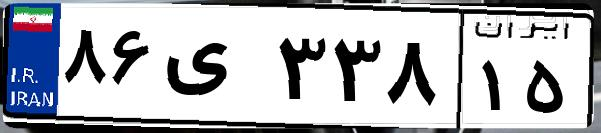1: (475, 38, 525, 113)
3: (270, 28, 330, 110), (330, 28, 385, 110)
5: (525, 38, 570, 115)
6: (110, 28, 158, 98)
8: (385, 28, 445, 110), (57, 26, 110, 100)
ی: (158, 20, 270, 120)
